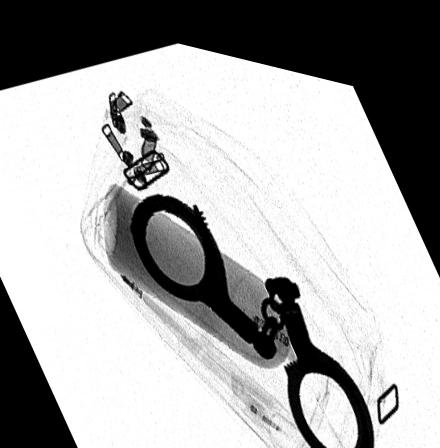HandCuffs: (129, 185, 374, 448)
